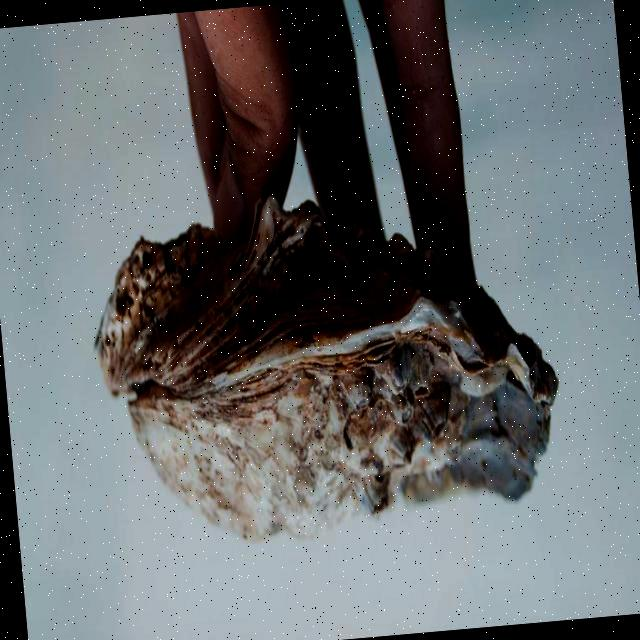Oyster-Closed: (96, 199, 558, 538)
